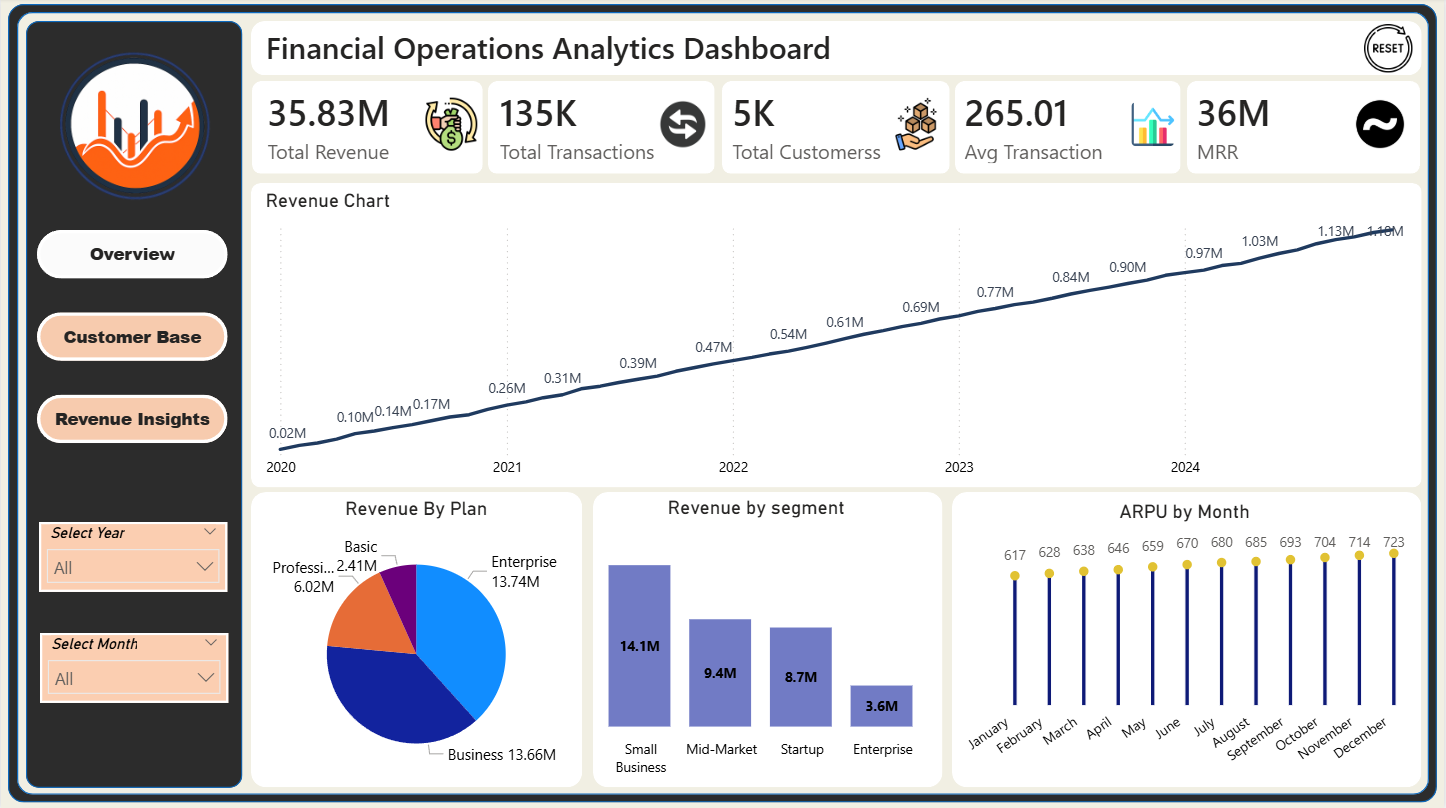

The page's visual inventory and layout, read from the dashboard file:
{"tool":"powerbi","page":{"name":"Overview","canvas":[1280,720],"ordinal":0},"visuals":[{"type":"group","id":"g1","title":"Group 1","box":[6.4,5.5,1267.3,708.2],"z":0},{"type":"shape","box":[6.4,5.5,1267,708],"z":0,"group":"g1"},{"type":"shape","box":[222.6,73.6,204.7,82.5],"z":0,"group":"g2"},{"type":"shape","box":[14.4,12.5,1252,694],"z":1000,"group":"g1"},{"type":"shape","box":[21.8,20,191.8,680],"z":1000},{"type":"shape","box":[431.7,73.6,201.1,82.5],"z":1000,"group":"g2"},{"type":"shape","box":[221.8,20,1038.2,48.2],"z":2000},{"type":"shape","box":[639,73.6,202,82.5],"z":2000,"group":"g2"},{"type":"shape","box":[846.3,73.6,200.2,82.5],"z":3000,"group":"g2"},{"type":"shape","box":[221.8,163.6,1038.2,270],"z":3000},{"type":"shape","box":[1052.1,74,206.6,82.5],"z":4000,"group":"g2"},{"type":"lineChart","title":"Revenue Chart","fields":{"Y":["transactions.Monthly Revenue"],"Category":["transactions.year_month.Variation.Date Hierarchy.Year","transactions.year_month.Variation.Date Hierarchy.Month"]},"box":[230,169.1,1021.8,264.5],"z":4000},{"type":"shape","box":[843.6,438.2,416.4,261.8],"z":5000},{"type":"lineChart","fields":{"Category":["transactions.year_month.Variation.Date Hierarchy.Month"],"Y":["transactions.ARPU"]},"box":[846.4,445.5,405.5,254.5],"z":6000},{"type":"shape","box":[524.5,438.2,310,261.8],"z":7000},{"type":"clusteredColumnChart","title":"Revenue by segment","fields":{"Category":["customers.segment"],"Y":["transactions.Total Revenue"]},"box":[500,441.8,359.1,255.5],"z":8000},{"type":"shape","box":[221.8,438.2,293.6,261.8],"z":9000},{"type":"pieChart","title":"Revenue By Plan","fields":{"Category":["customers.plan"],"Y":["Sum(transactions.amount)"]},"box":[233.6,442.7,270,254.5],"z":10000},{"type":"slicer","title":"Year","fields":{"Values":["transactions.year_month.Variation.Date Hierarchy.Year"]},"box":[33.3,464.6,167.3,62.5],"z":11000},{"type":"slicer","title":"Year","fields":{"Values":["transactions.year_month.Variation.Date Hierarchy.Month"]},"box":[34.3,563.4,167.3,62.5],"z":12000},{"type":"pageNavigator","box":[31.9,205.7,169.4,190.6],"z":13000},{"type":"textbox","box":[229.7,20.4,558.6,55],"z":14000},{"type":"image","box":[16,12.4,202.2,205.7],"z":15000},{"type":"actionButton","box":[1208.6,23.1,42.6,42.6],"z":16000},{"type":"group","id":"g2","title":"Group 1","box":[222.6,73.6,1036.1,82.8],"z":17000},{"type":"cardVisual","fields":{"Data":["transactions.Total Revenue","transactions.Total Transactions","transactions.Total Customerss","transactions.Avg Transaction","customers.MRR"]},"box":[224.3,75.4,1032.1,81.6],"z":18000}]}

Visuals, with their boxes in screenshot pixels (x1, y1, x2, y2), scaled from the page's 1280x720 canvas onto the 1446x808 screenshot:
"Group 1" group: box(7, 6, 1439, 801)
shape: box(7, 6, 1439, 801)
shape: box(251, 83, 483, 175)
shape: box(16, 14, 1431, 793)
shape: box(25, 22, 241, 786)
shape: box(488, 83, 715, 175)
shape: box(251, 22, 1423, 77)
shape: box(722, 83, 950, 175)
shape: box(956, 83, 1182, 175)
shape: box(251, 184, 1423, 487)
shape: box(1189, 83, 1422, 176)
"Revenue Chart" lineChart: box(260, 190, 1414, 487)
shape: box(953, 492, 1423, 786)
lineChart - transactions.year_month.Variation.Date Hierarchy.Month x transactions.ARPU: box(956, 500, 1414, 786)
shape: box(593, 492, 943, 786)
"Revenue by segment" clusteredColumnChart: box(565, 496, 971, 783)
shape: box(251, 492, 582, 786)
"Revenue By Plan" pieChart: box(264, 497, 569, 782)
"Year" slicer: box(38, 521, 227, 592)
"Year" slicer: box(39, 632, 228, 702)
pageNavigator: box(36, 231, 227, 445)
textbox: box(259, 23, 891, 85)
image: box(18, 14, 246, 245)
actionButton: box(1365, 26, 1413, 74)
"Group 1" group: box(251, 83, 1422, 176)
cardVisual - transactions.Total Revenue x transactions.Total Transactions: box(253, 85, 1419, 176)
